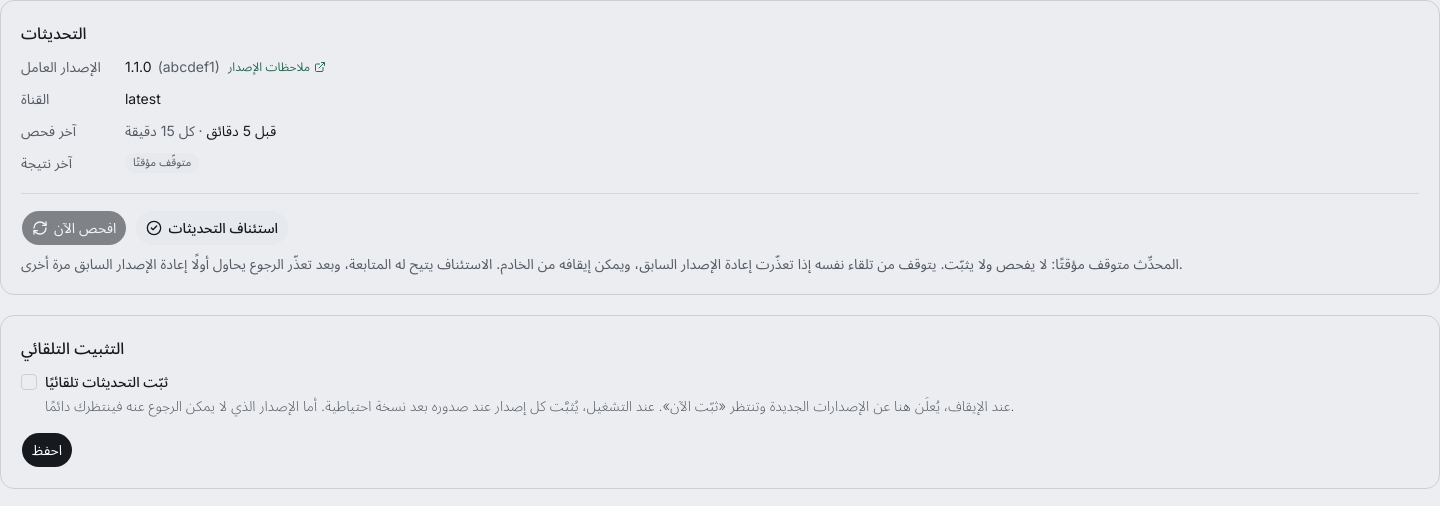
Test case: ADMIN-B58 Resume is answered by the check the updater runs on resuming, in Arabic
The width and height of the screenshot is (1440, 506).
Click the button "استئناف التحديثات" at (212, 228), box top-left (136, 210), bottom-right (289, 246)
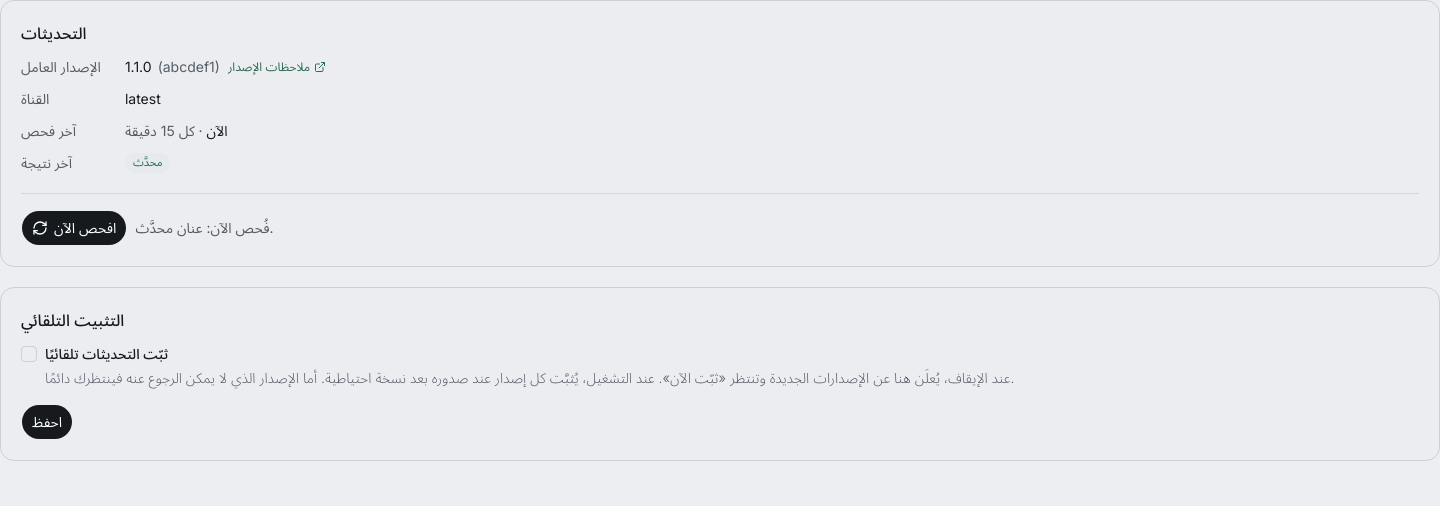
Now the text "فُحص الآن: عنان محدَّث." is shown, box top-left (136, 218), bottom-right (274, 238)
